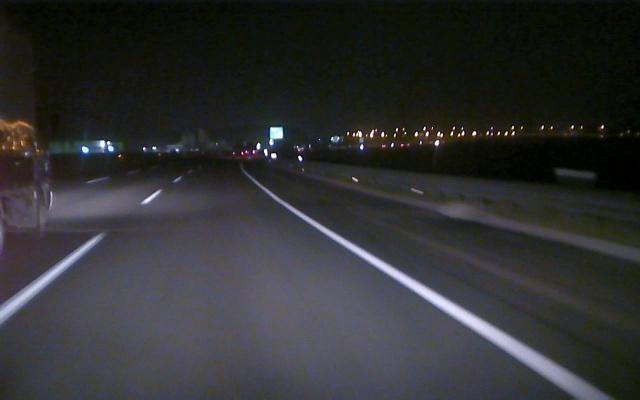lane: (253, 181, 609, 398), (2, 189, 159, 323)
